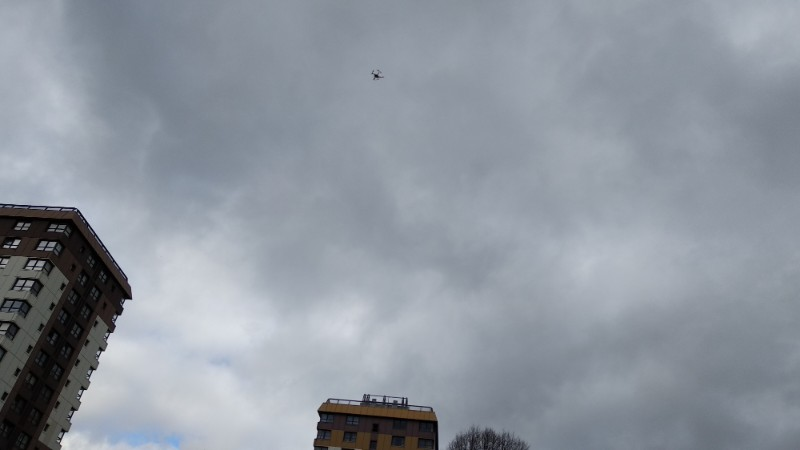drone: (370, 69, 383, 81)
